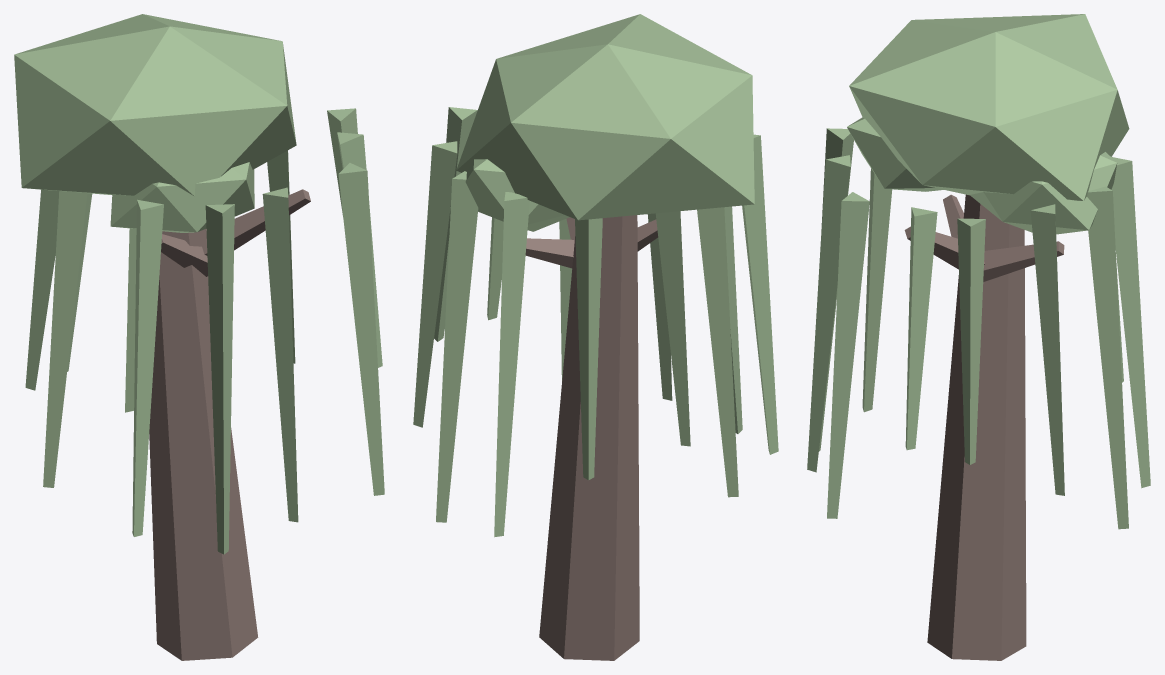
Rendered from arv_salgueiro_2_sem_textura.glb.
3 views of the same model, side by side, from view 1: azimuth 30°, elevation 25°; view 2: azimuth 150°, elevation 25°; view 3: azimuth 270°, elevation 25° (orthographic). The views are drawn at different scales.
Visible parts, largest first — view 1: arv_salgueiro_2; view 2: arv_salgueiro_2; view 3: arv_salgueiro_2.
Boxes of the visible parts, x1,y1,x2,y2 form: arv_salgueiro_2: [14, 14, 384, 660]; arv_salgueiro_2: [413, 14, 778, 660]; arv_salgueiro_2: [807, 14, 1150, 660].
Size of the model in its own units: 0.9225 by 1.61 by 0.8326.
